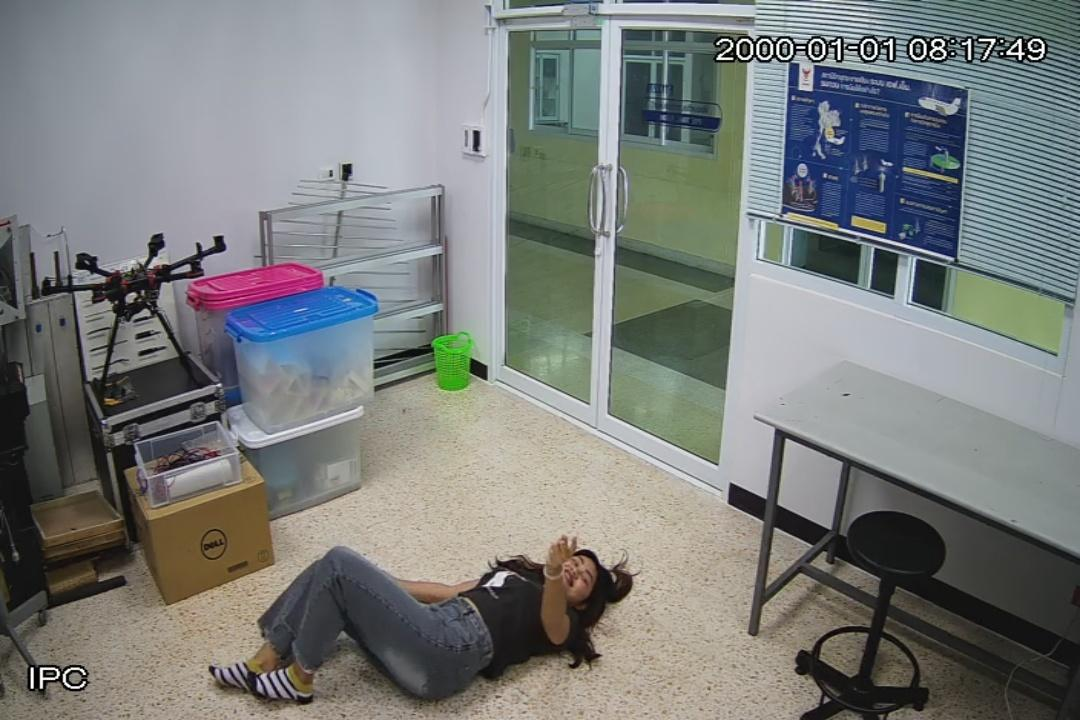fall: (210, 520, 637, 710)
